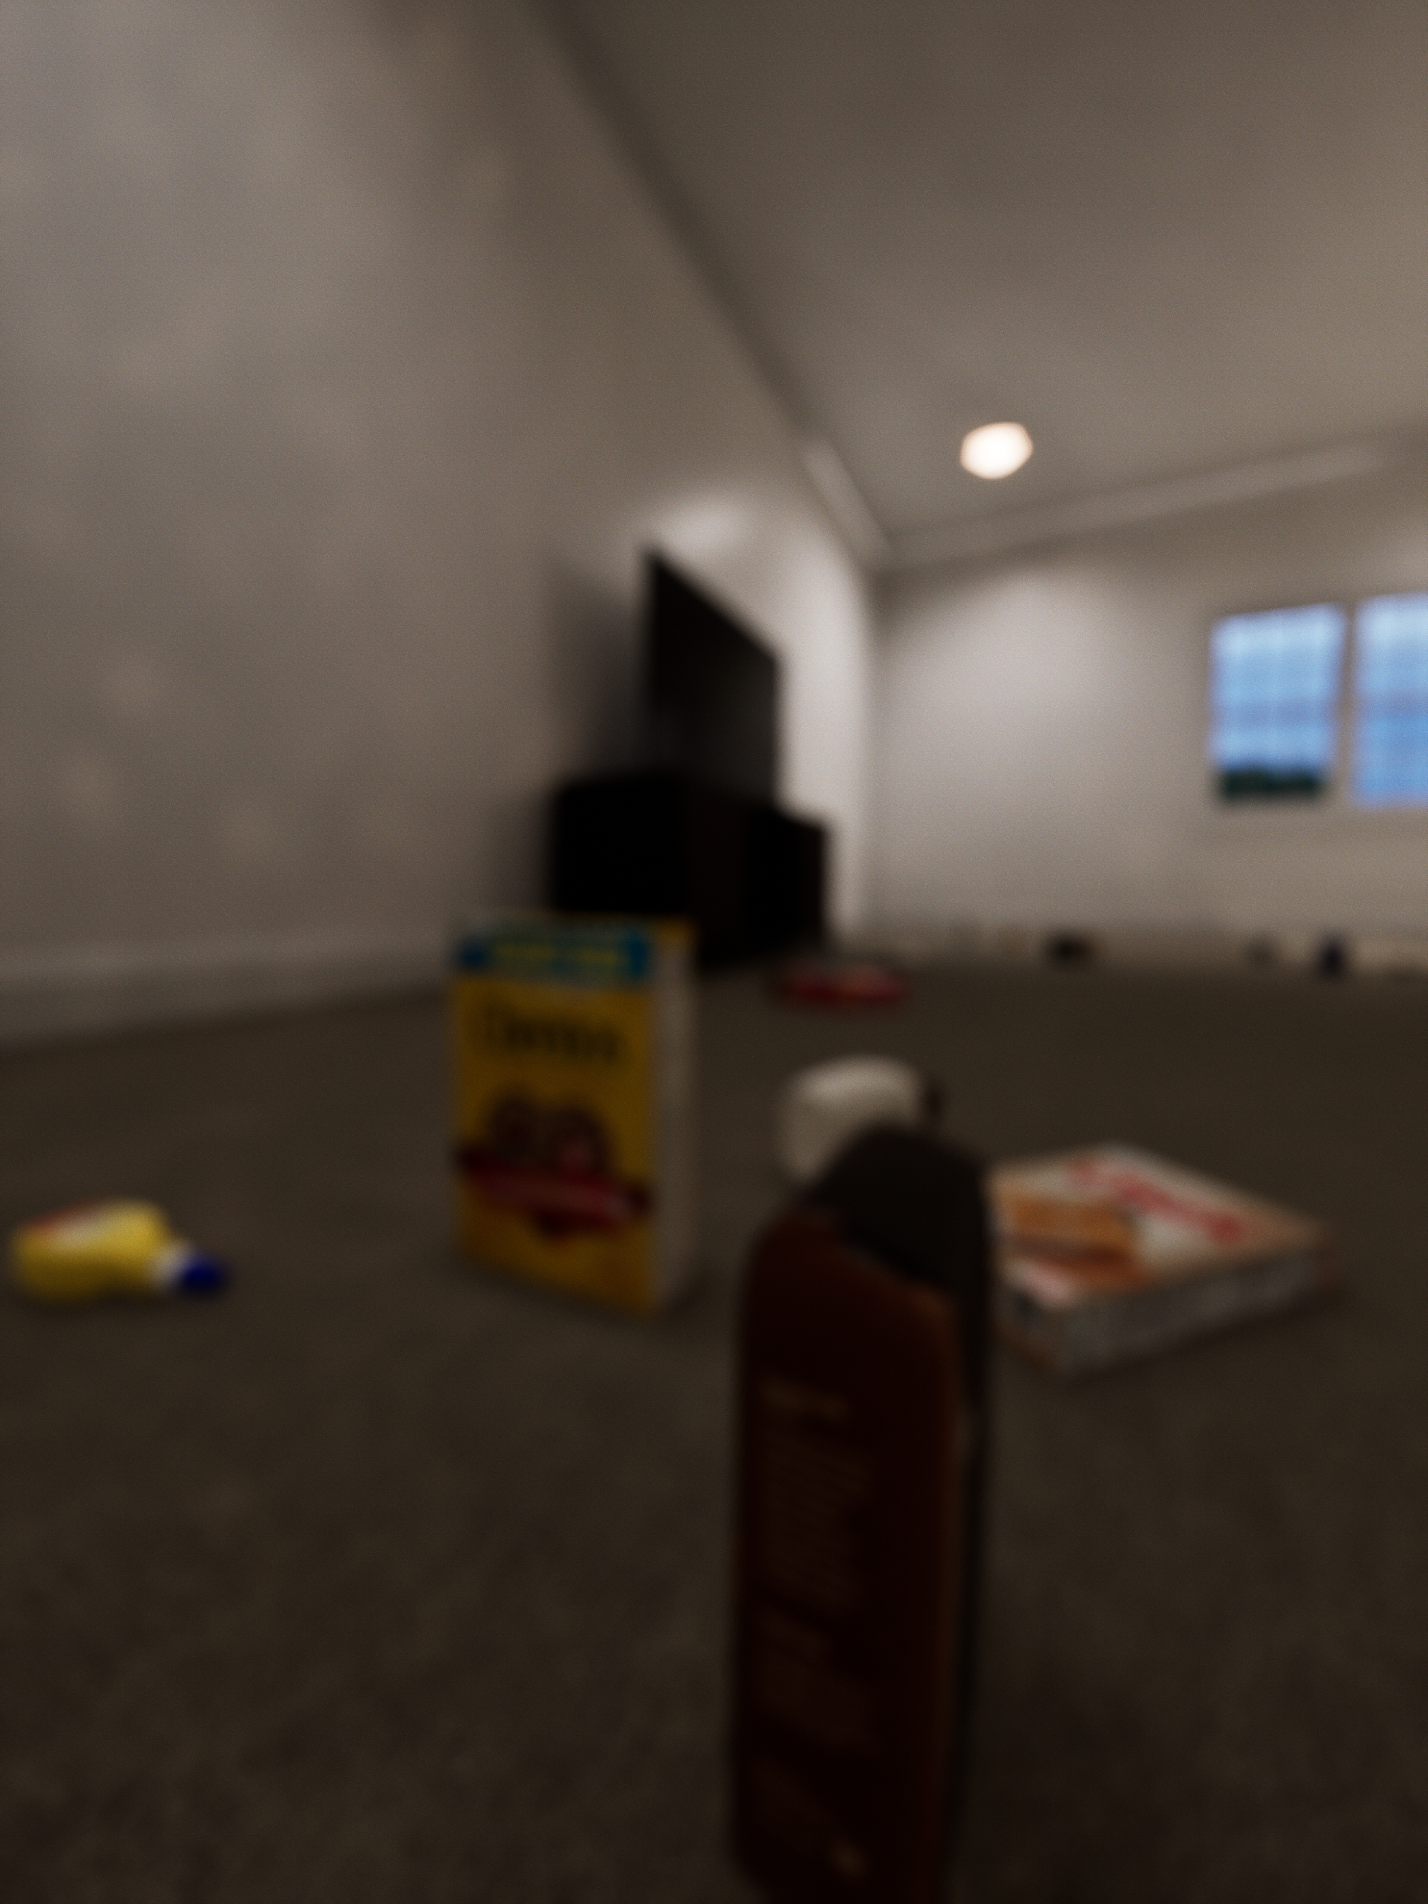soup: (532, 913, 768, 1057)
